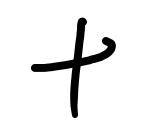plus: (32, 18, 116, 118)
